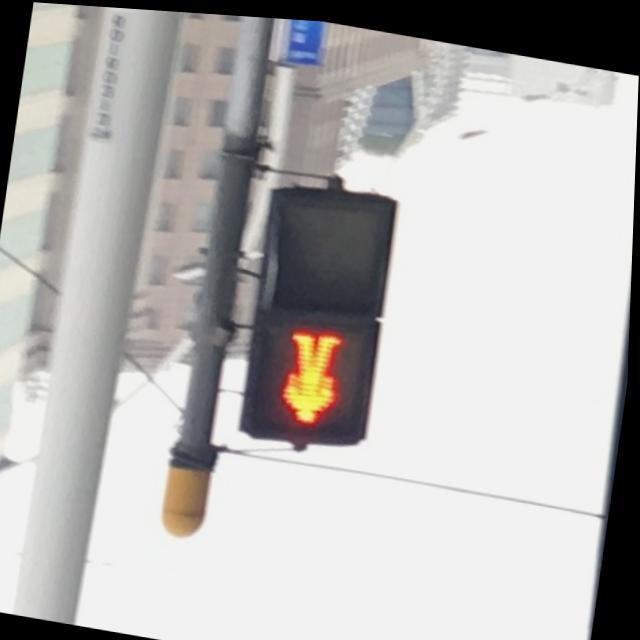red_light: (265, 313, 361, 434)
